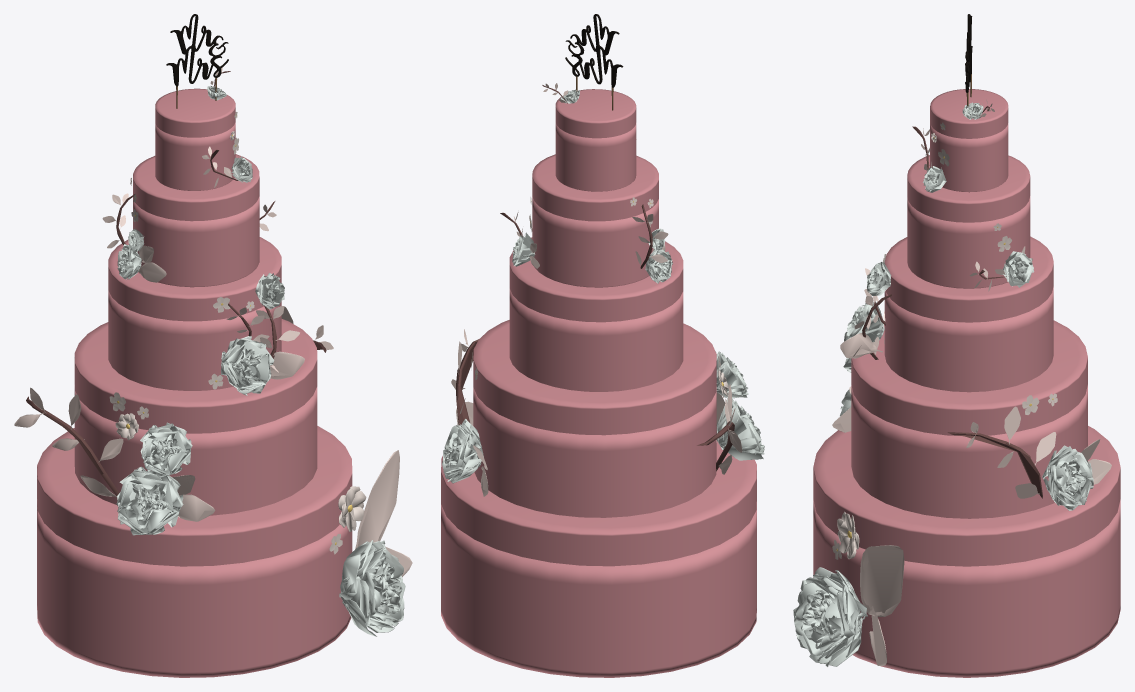
Rendered from 5-tier-blush-roses-mrms.glb.
The picture shows the model from 3 angles, left to right: view 1: azimuth 30°, elevation 25°; view 2: azimuth 150°, elevation 25°; view 3: azimuth 270°, elevation 25°; orthographic projection.
Parts seen in each view (by area): view 1: 3.004, 3.003, 3.002, 2.001, 1.001, grid.002, grid.001, Plane.017, grid.005, Plane.015, grid.004, mrms.002 (+6 smaller); view 2: 3.004, 3.003, 3.002, 2.001, 1.001, grid.009, mrms.002, grid.001, Plane.033, Plane.017, grid.004, grid.006 (+2 smaller); view 3: 3.004, 3.003, 3.002, 2.001, 1.001, grid.002, Plane.015, grid.009, Plane.033, grid.005, grid.008, Plane (+4 smaller).
Part boxes in pixels (x1=…): 3.004: x1=37, y1=426, x2=352, y2=677; 3.003: x1=74, y1=319, x2=317, y2=515; 3.002: x1=108, y1=237, x2=281, y2=390; 2.001: x1=133, y1=154, x2=259, y2=287; 1.001: x1=155, y1=88, x2=235, y2=190; grid.002: x1=339, y1=540, x2=405, y2=636; grid.001: x1=116, y1=466, x2=183, y2=535; Plane.017: x1=14, y1=387, x2=123, y2=497; grid.005: x1=221, y1=336, x2=274, y2=395; Plane.015: x1=355, y1=450, x2=399, y2=549; grid.004: x1=140, y1=422, x2=192, y2=477; mrms.002: x1=166, y1=14, x2=228, y2=108; 3.004: x1=441, y1=441, x2=756, y2=677; 3.003: x1=473, y1=320, x2=716, y2=517; 3.002: x1=509, y1=237, x2=683, y2=391; 2.001: x1=532, y1=154, x2=658, y2=287; 1.001: x1=555, y1=89, x2=636, y2=191; grid.009: x1=442, y1=419, x2=483, y2=483; mrms.002: x1=565, y1=14, x2=623, y2=110; grid.001: x1=716, y1=398, x2=764, y2=460; Plane.033: x1=451, y1=329, x2=478, y2=425; Plane.017: x1=697, y1=384, x2=742, y2=474; grid.004: x1=715, y1=351, x2=748, y2=398; grid.006: x1=645, y1=249, x2=672, y2=283; 3.004: x1=813, y1=426, x2=1120, y2=677; 3.003: x1=851, y1=320, x2=1087, y2=518; 3.002: x1=884, y1=236, x2=1053, y2=392; 2.001: x1=907, y1=155, x2=1030, y2=288; 1.001: x1=930, y1=89, x2=1008, y2=192; grid.002: x1=793, y1=567, x2=867, y2=666; Plane.015: x1=860, y1=545, x2=904, y2=616; grid.009: x1=1042, y1=445, x2=1093, y2=510; Plane.033: x1=947, y1=406, x2=1056, y2=498; grid.005: x1=844, y1=302, x2=884, y2=342; grid.008: x1=1002, y1=251, x2=1034, y2=287; Plane: x1=837, y1=511, x2=859, y2=558.
Bounding box in the file's own units: 7.07 × 11.87 × 5.9.
